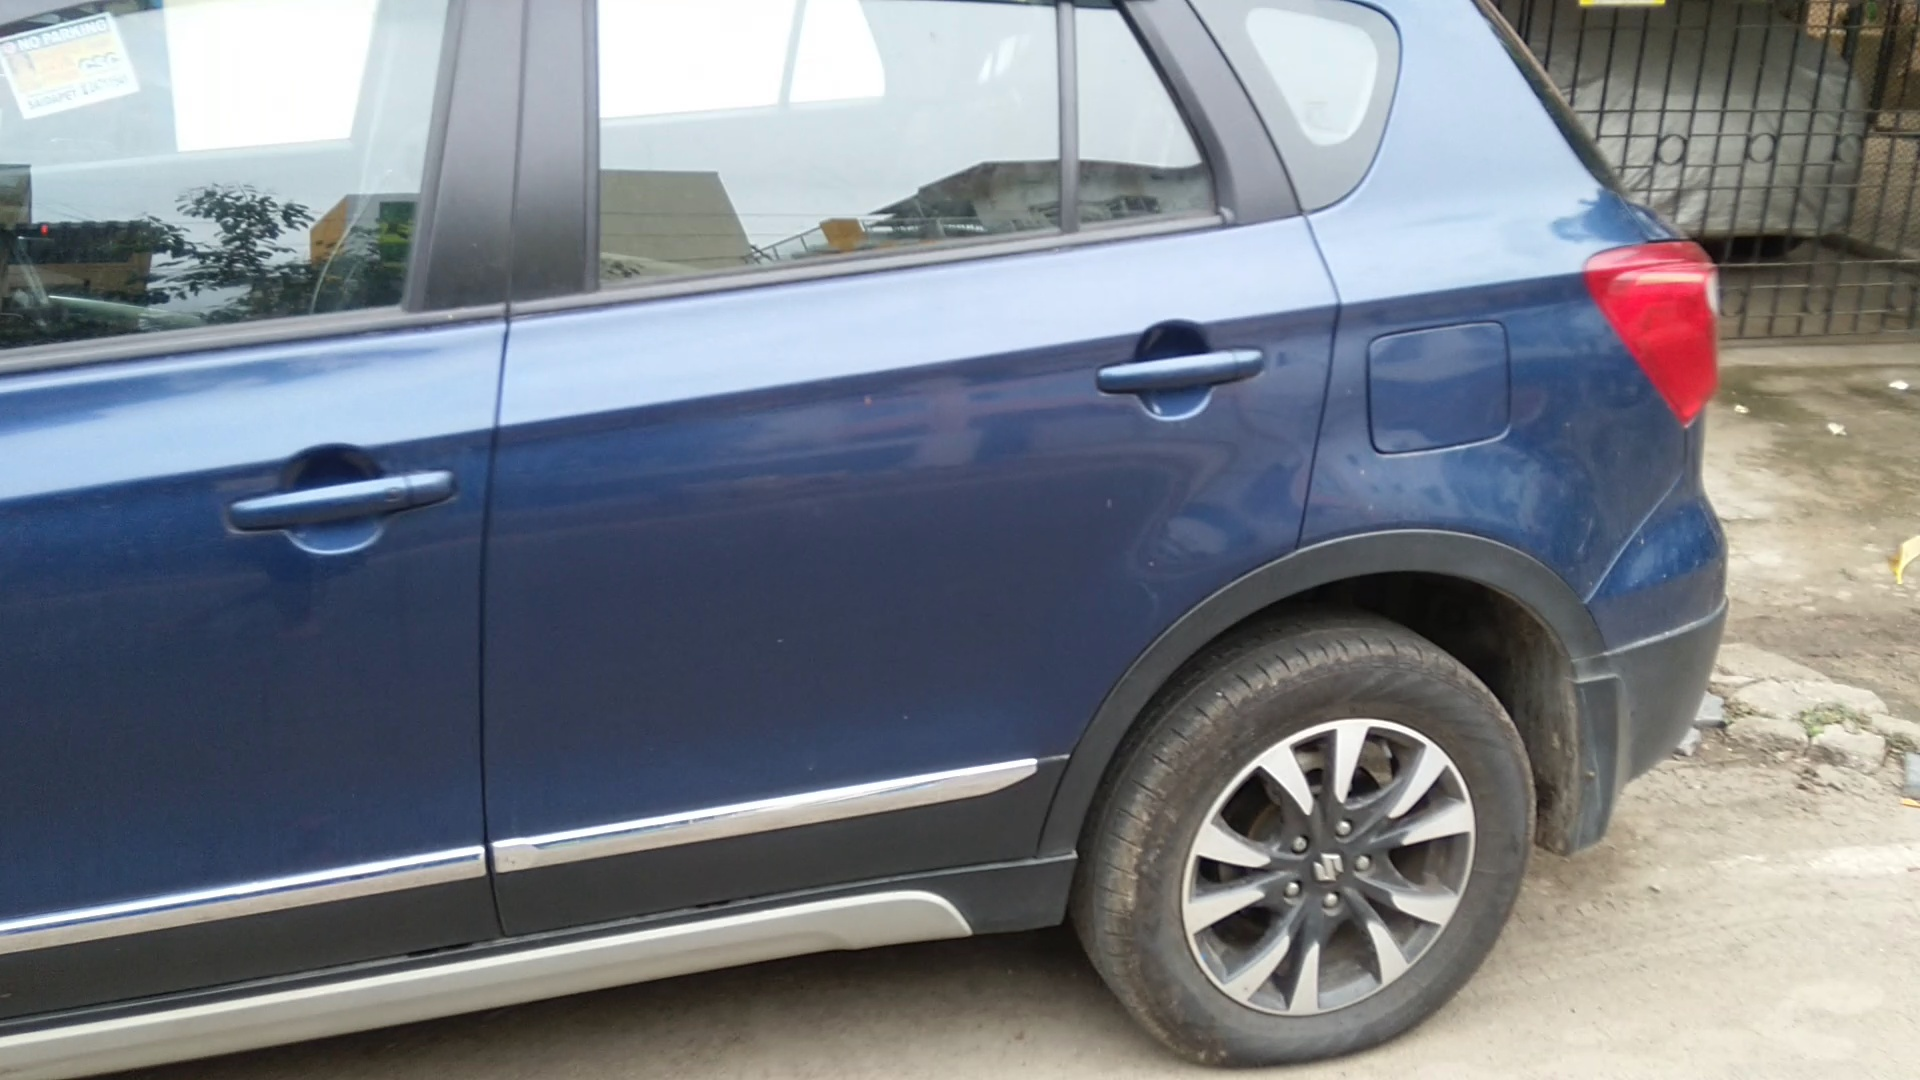alloy_wheel: (1117, 646, 1538, 1072)
